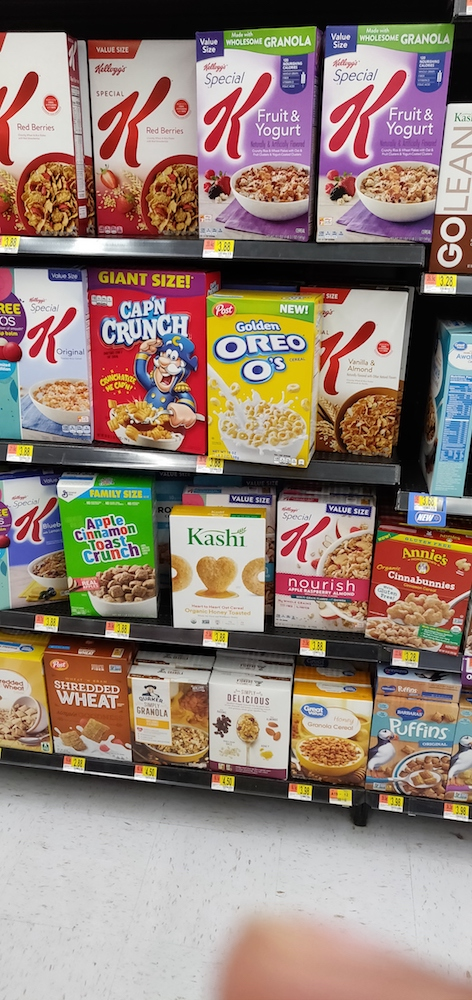Oreo Golden-568301011: (201, 291, 314, 465)
